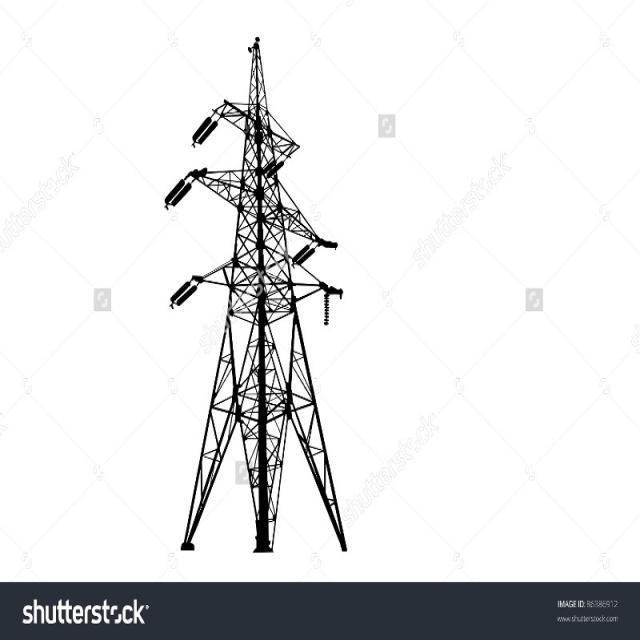non-critical vegetation: (144, 28, 369, 558)
